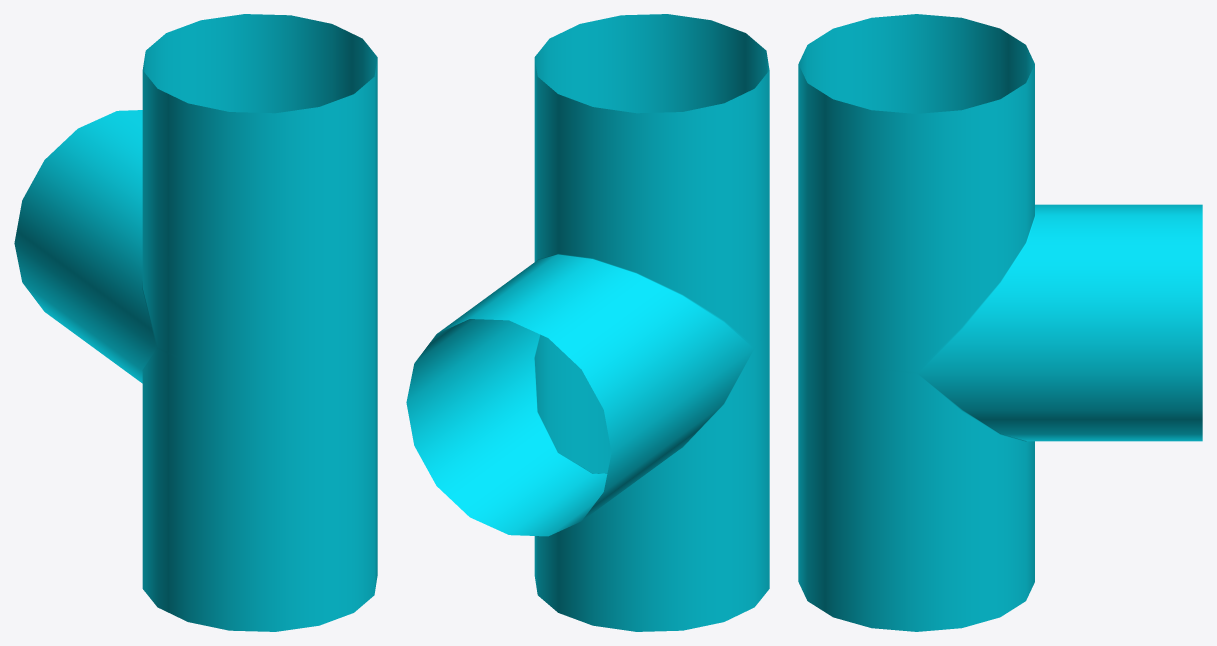
The model's file is sm_pipe_D.fbx.
3 views of the same model, side by side, from view 1: azimuth 30°, elevation 25°; view 2: azimuth 150°, elevation 25°; view 3: azimuth 270°, elevation 25° (orthographic).
Parts seen in each view (by area): view 1: Straight.005; view 2: Straight.005; view 3: Straight.005.
Boxes of the visible parts, x1,y1,x2,y2 form: Straight.005: (14, 14, 377, 631); Straight.005: (406, 14, 769, 631); Straight.005: (798, 14, 1202, 631).
Size of the model in its own units: 62 by 150 by 106.
